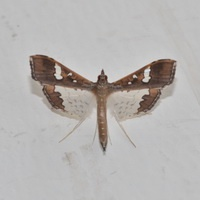insect: (30, 55, 175, 151)
